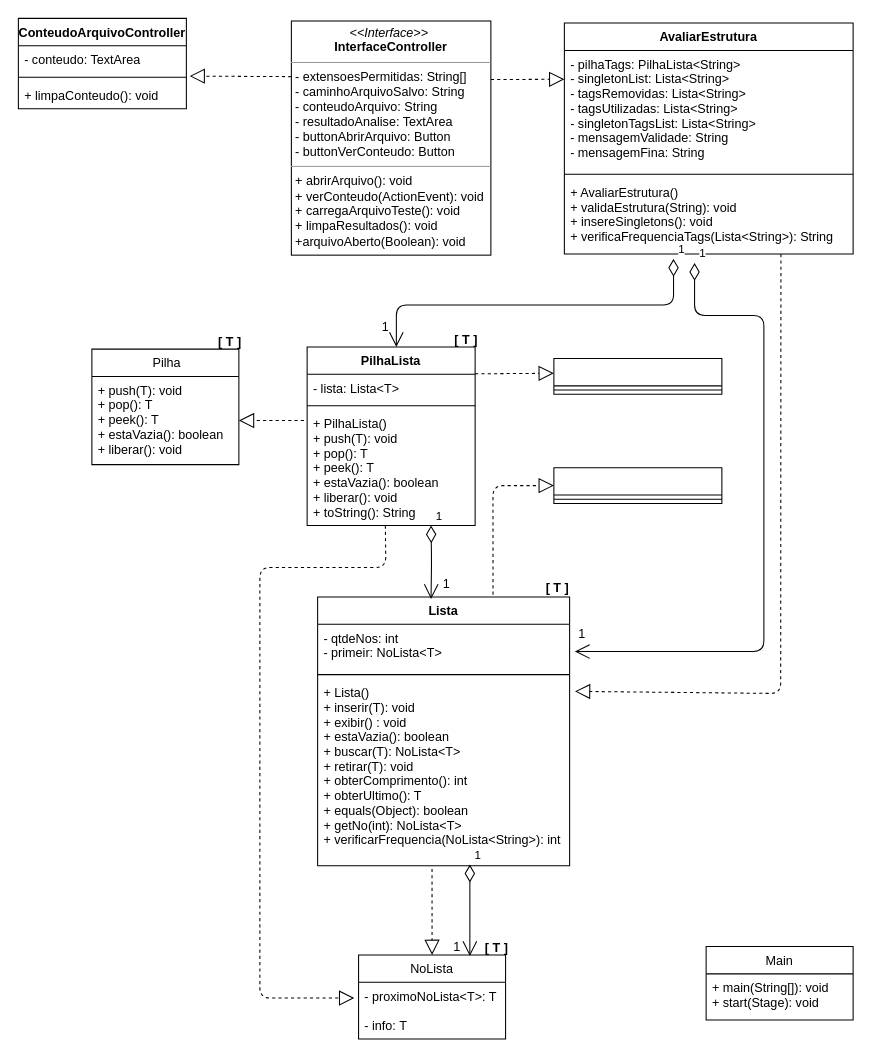
This 871x1061 diagram has some shape labels left out. The shapes that lost their labels are listed below. From the top down, each one's centre as x and y in pixels, then its label:
At point (637, 376): "PilhaVaziaException".
At point (637, 485): "ListaVaziaException".
